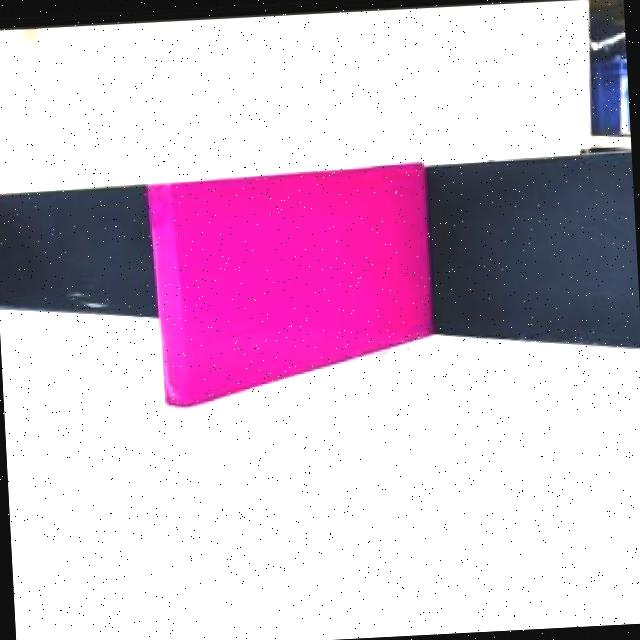xparking: (152, 173, 438, 358)
